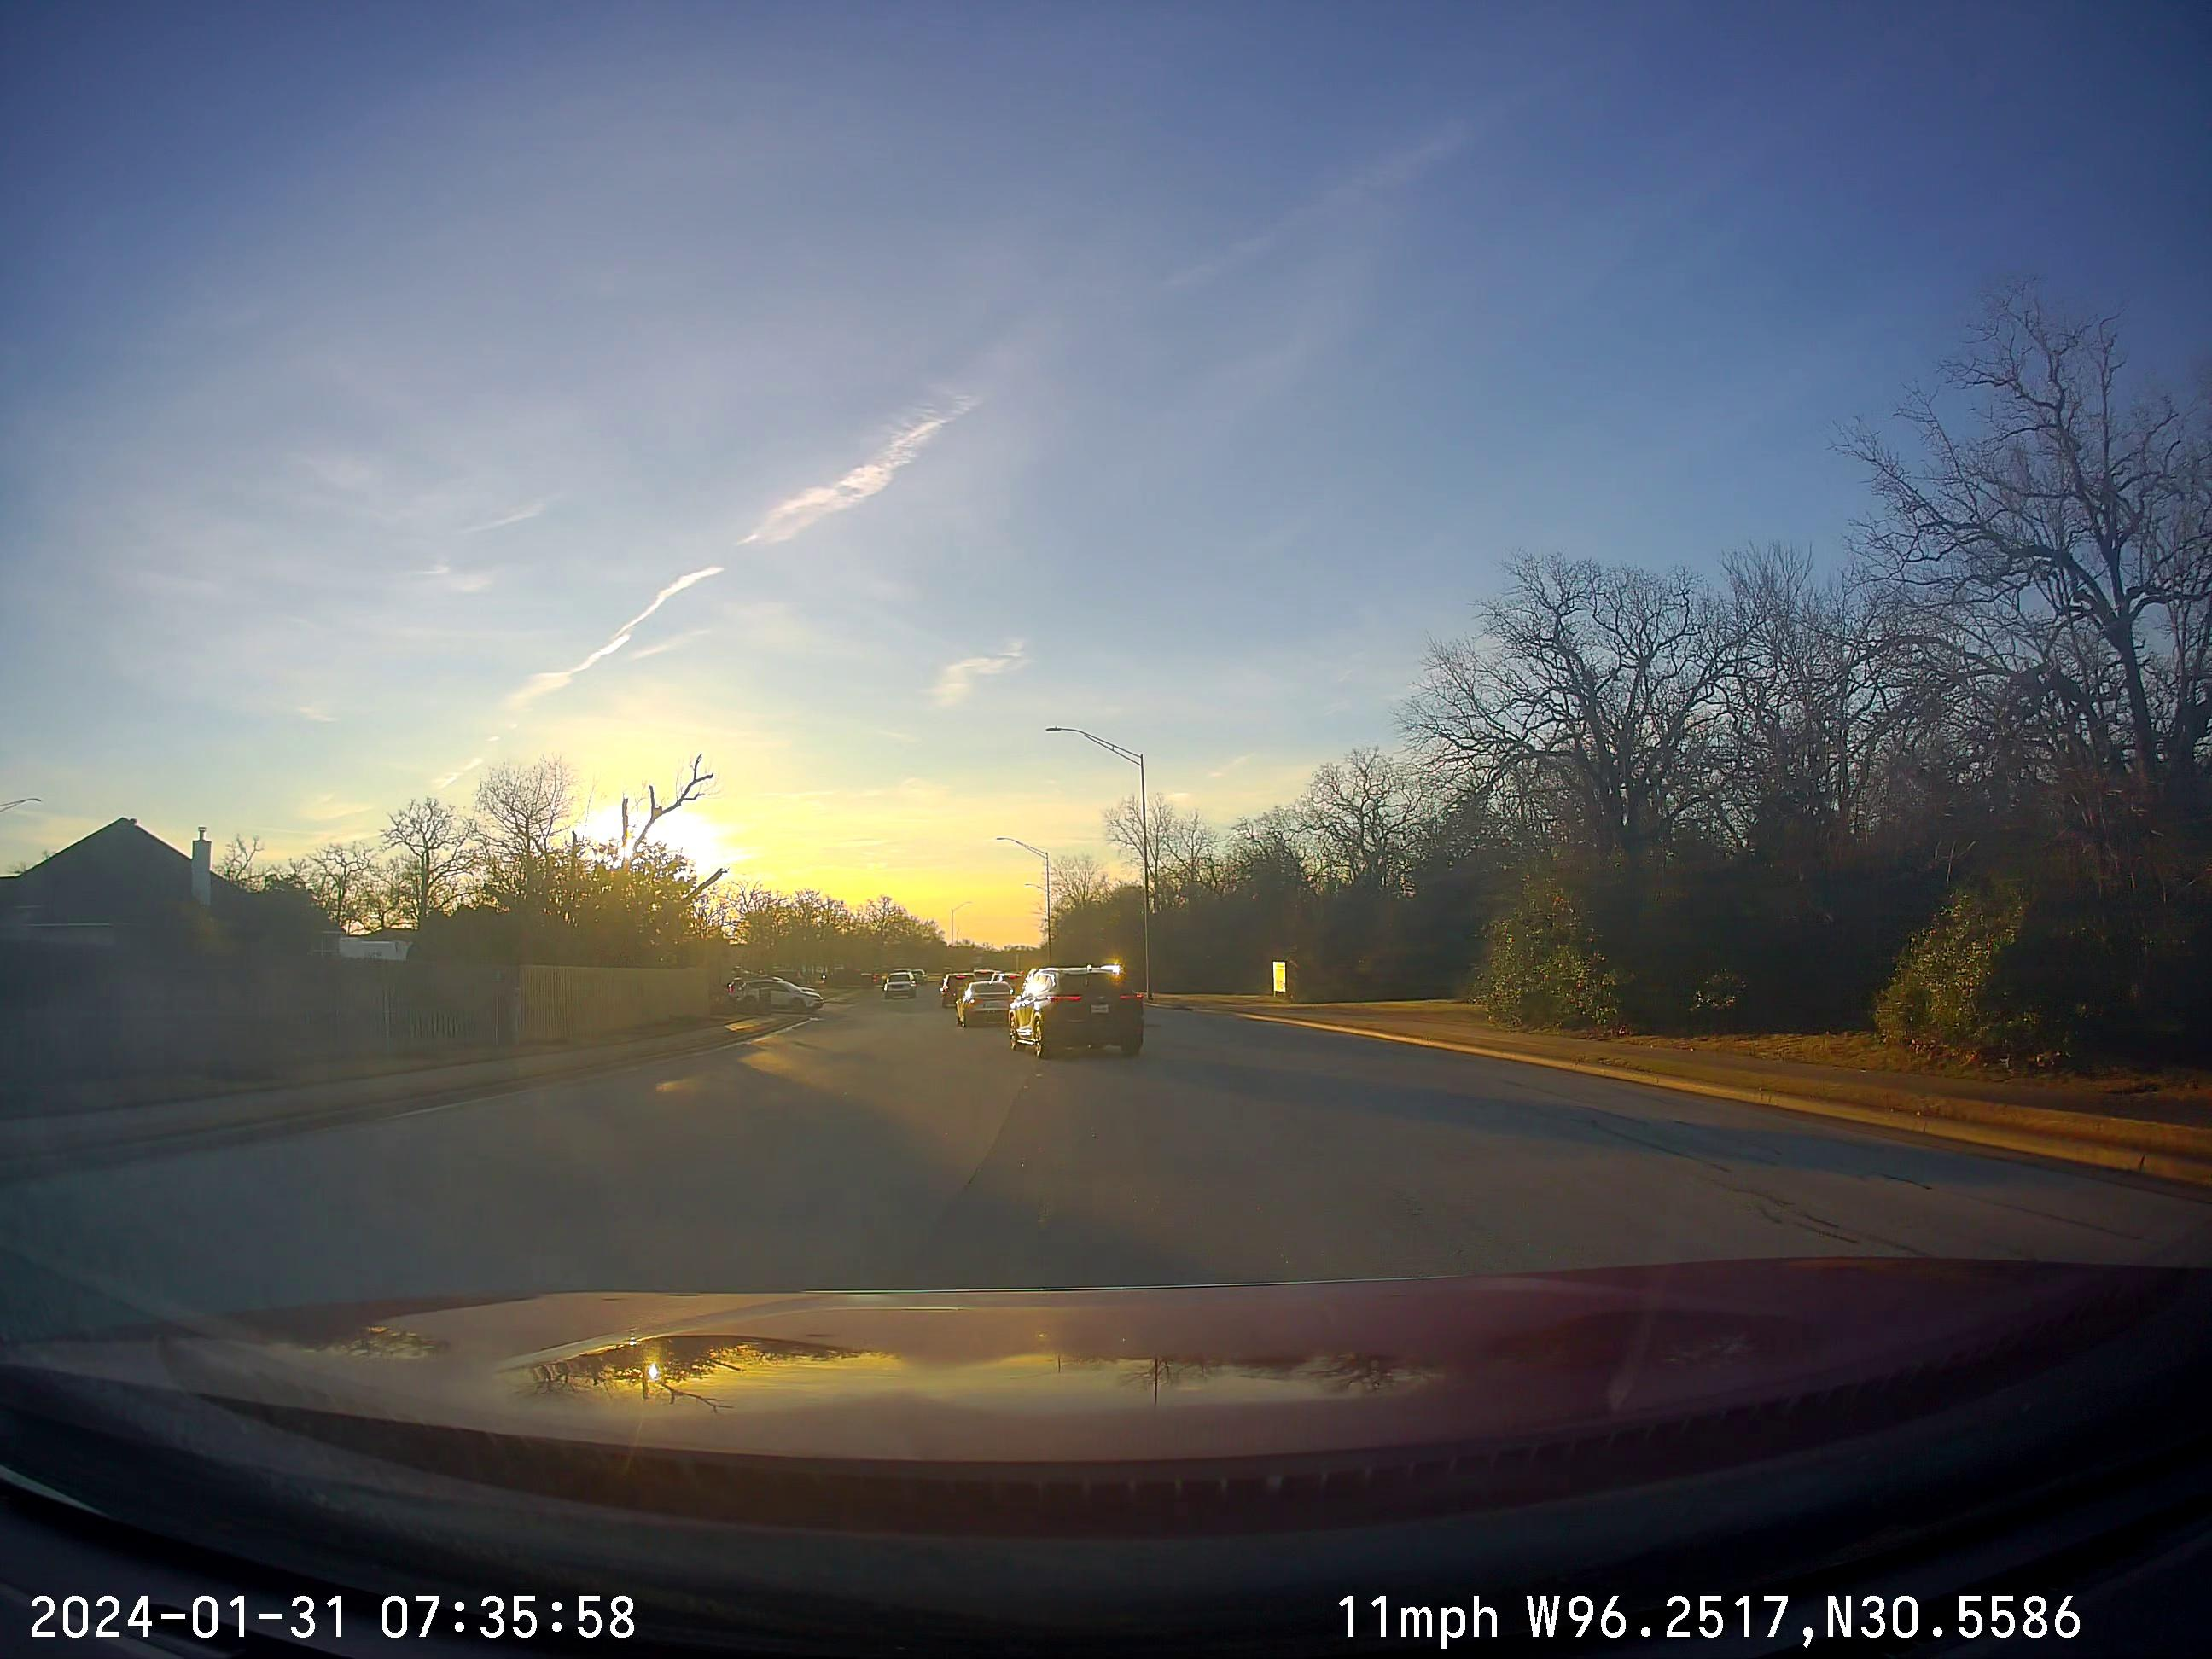car: (1008, 966, 1143, 1057)
truck: (1008, 966, 1143, 1057)
